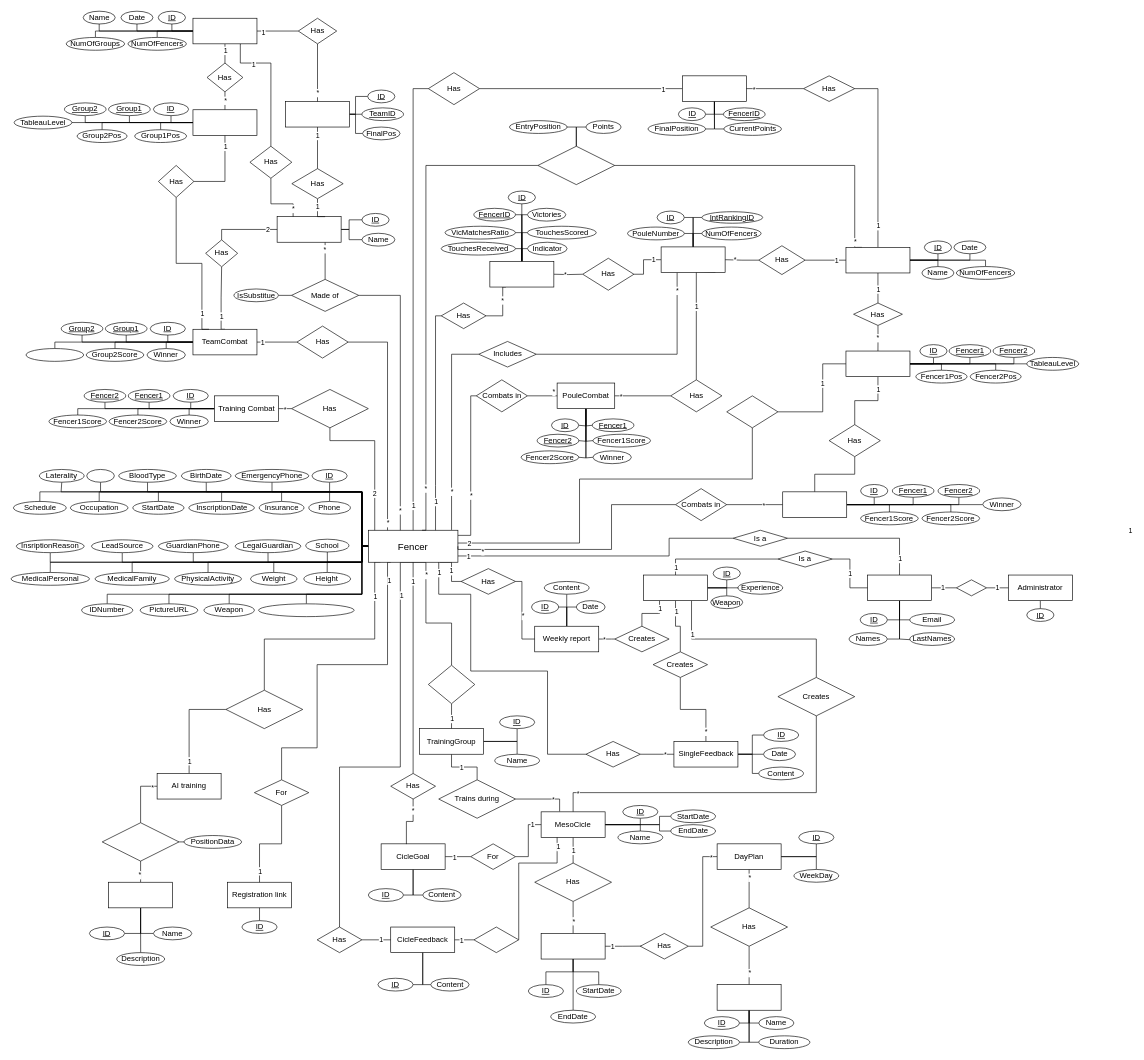
The diagram is 1144 pixels wide and 1060 high, and some of its shapes have lost their labels. Here are the shapes that lost their labels. From the top down, the box of each, then its label:
(192, 18, 257, 44): TeamCompetition
(682, 75, 746, 101): Final results
(192, 109, 257, 135): TeamTableauPair
(285, 101, 350, 127): TeamFinalResults
(537, 146, 615, 185): Participates in
(276, 216, 341, 242): Team
(489, 261, 554, 287): PouleResults
(660, 246, 725, 273): Poules
(845, 247, 910, 273): InternalRanking
(25, 348, 84, 361): Group1Score
(845, 350, 910, 377): TableauPair
(726, 395, 778, 428): Made up of
(86, 469, 114, 482): Sex
(782, 491, 847, 517): RankingCombat
(643, 574, 708, 601): Trainer
(867, 574, 932, 601): User
(956, 579, 987, 596): Is an
(258, 603, 354, 617): PersonalMedicalDetails
(428, 665, 475, 704): Belongs to
(102, 822, 179, 861): Stores
(108, 882, 173, 908): Errors
(473, 926, 519, 953): About
(540, 933, 605, 959): MicroCicle
(716, 984, 781, 1010): Activity
